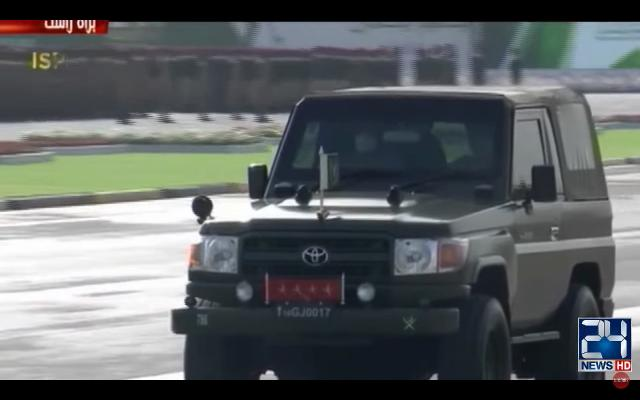plate: (272, 301, 338, 320)
